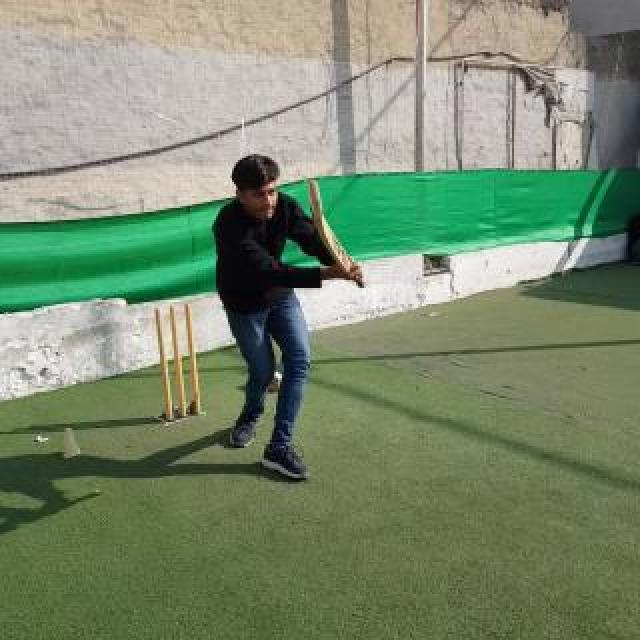bat: (308, 178, 366, 288)
